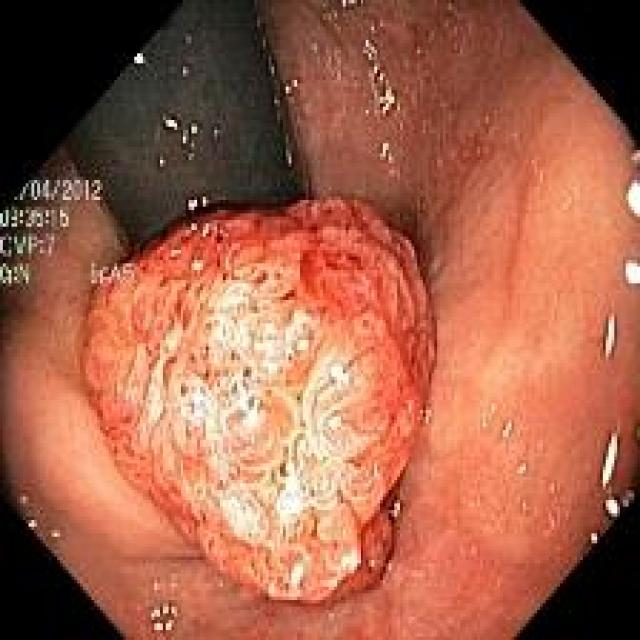Polyps: (84, 198, 434, 602)
